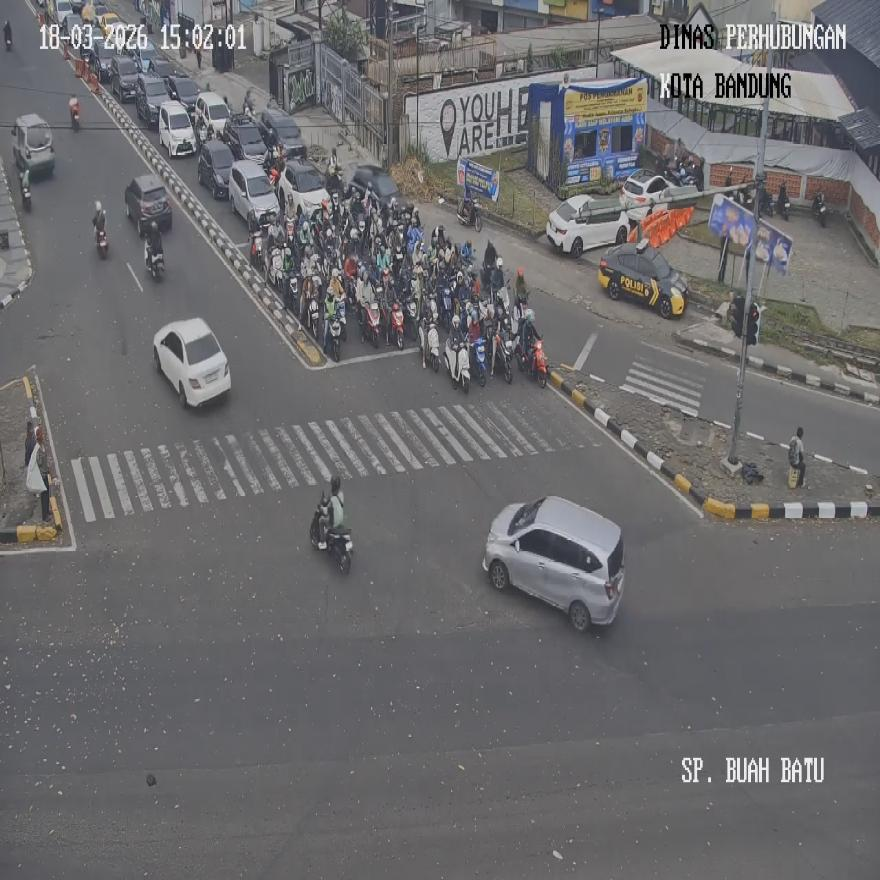Mobil: (483, 495, 625, 632), (153, 317, 231, 408), (546, 193, 630, 257), (228, 159, 280, 230), (11, 113, 55, 180), (125, 174, 171, 234)
Motor: (308, 496, 352, 573), (444, 336, 470, 391), (492, 331, 512, 383), (527, 339, 548, 388), (362, 301, 382, 347), (144, 238, 164, 280), (325, 156, 343, 202), (457, 197, 481, 231), (325, 312, 342, 360), (388, 300, 404, 350), (471, 336, 487, 386), (426, 323, 442, 372), (306, 295, 322, 342), (404, 299, 420, 346), (268, 244, 284, 290), (332, 296, 347, 341), (250, 225, 264, 271), (285, 274, 300, 314), (776, 185, 790, 221), (20, 169, 32, 210), (812, 191, 826, 226), (95, 224, 109, 259), (69, 94, 80, 130), (242, 89, 255, 119), (2, 20, 12, 52)
